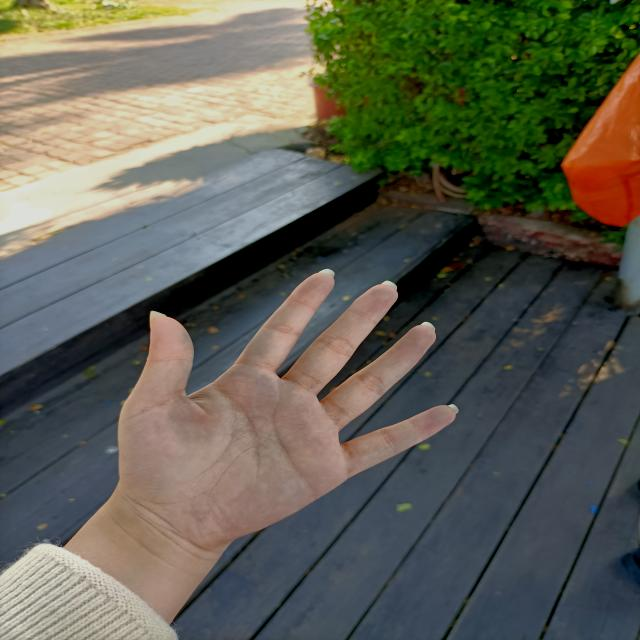no_glove: (99, 250, 475, 551)
